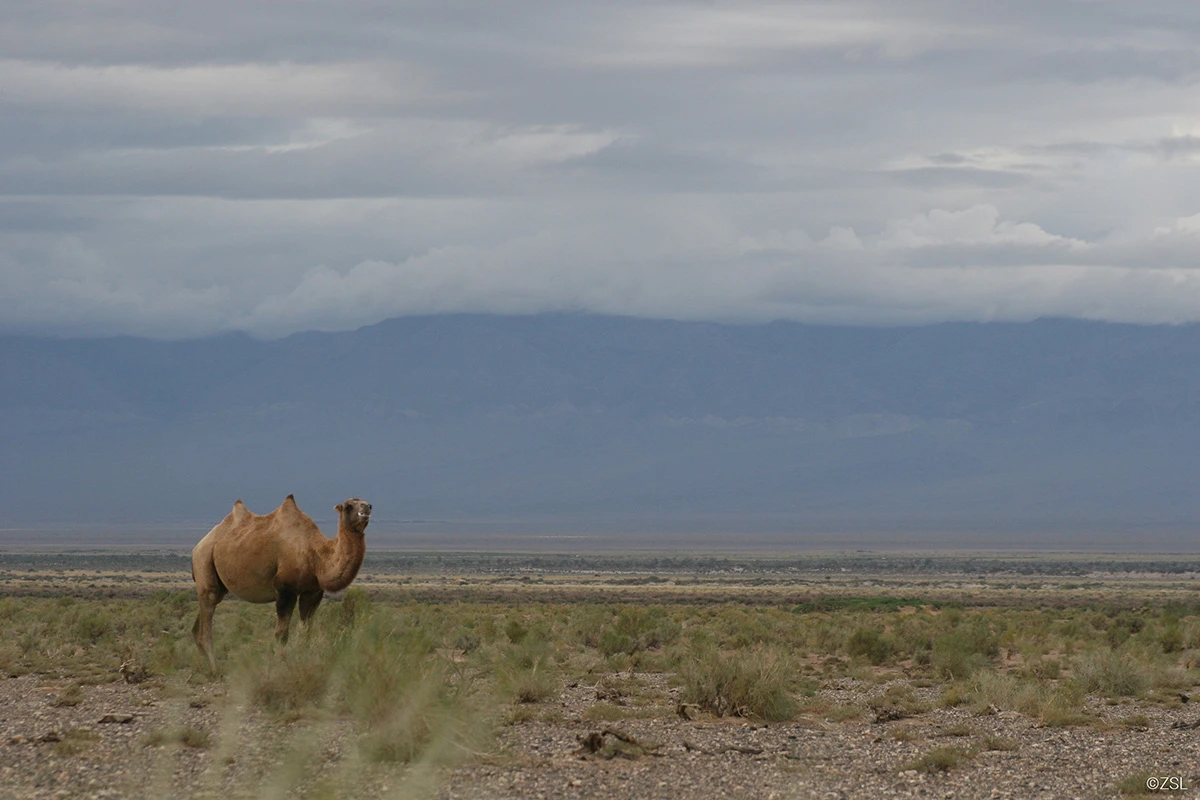camel: (158, 478, 399, 645)
